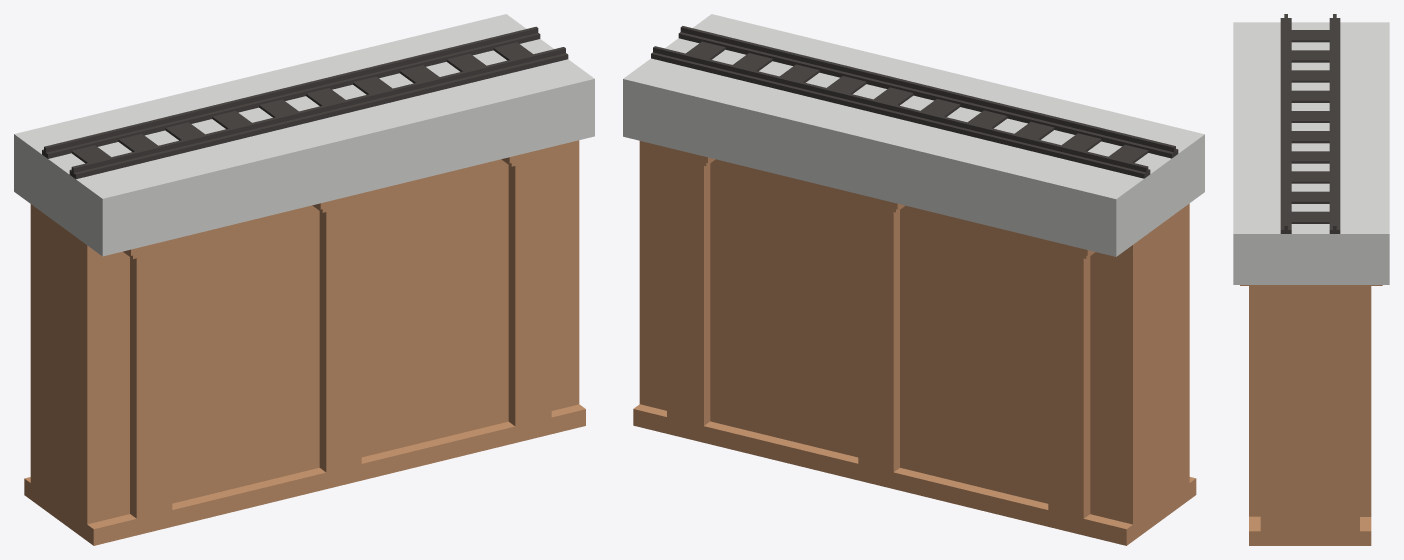
The picture shows the model from 3 angles, left to right: view 1: azimuth 30°, elevation 25°; view 2: azimuth 150°, elevation 25°; view 3: azimuth 270°, elevation 25°; orthographic projection. The views are drawn at different scales.
Visible parts, largest first — view 1: Box002; view 2: Box002; view 3: Box002.
Boxes of the visible parts, x1,y1,x2,y2 form: Box002: [14, 14, 594, 545]; Box002: [623, 14, 1204, 545]; Box002: [1233, 14, 1389, 545].
Size of the model in its own units: 29.9 by 21.06 by 9.31.
1 material, 1 textured.
